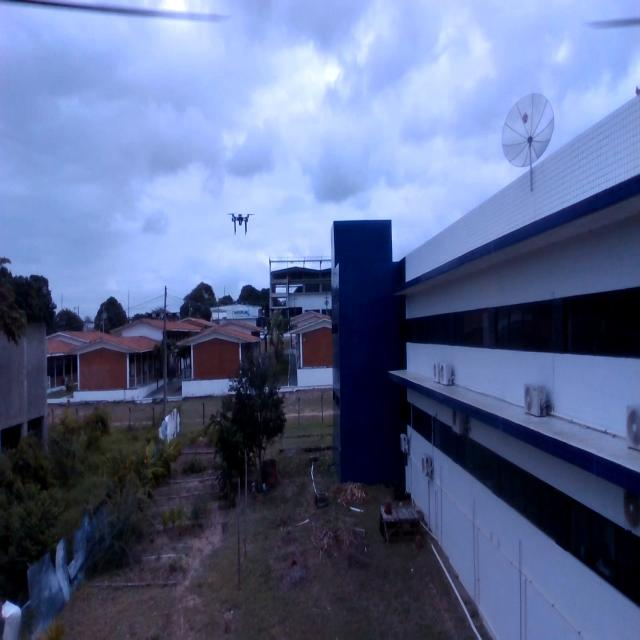-uav-: (224, 199, 258, 240)
